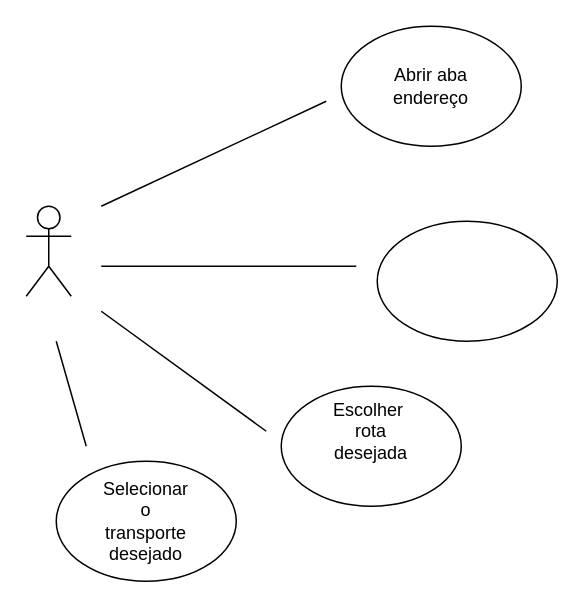
Some shapes in this 584 by 608 pixel diagram are drawn without their labels. The shapes that lost their labels are listed below. From the top down, each one's centre as x and y in pixels, then its label:
pixel 48 250: Actor
pixel 466 280: Digitar endereço destino
